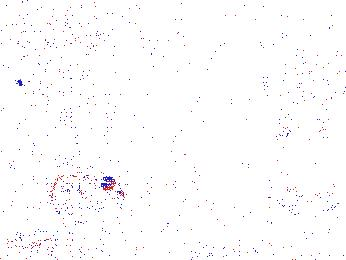flame jellyfish: (49, 171, 125, 225), (260, 64, 308, 139), (259, 163, 309, 212)
